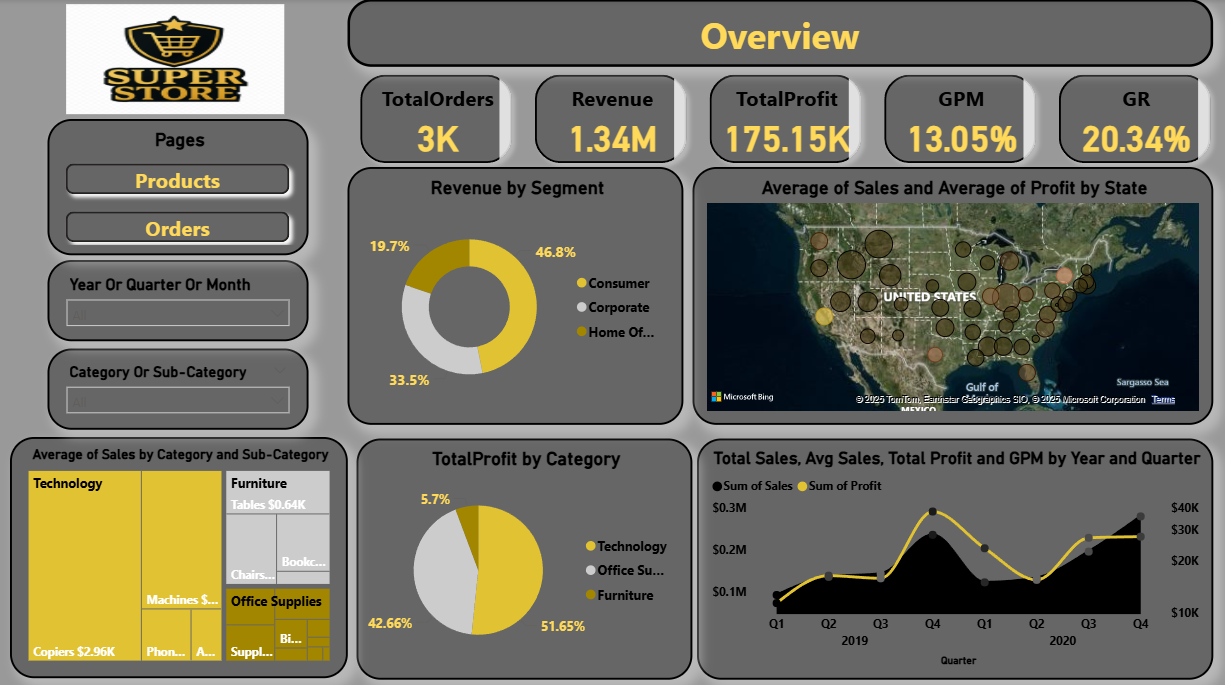

This screenshot's page, from the dashboard's own definition file:
{"tool":"powerbi","page":{"name":"Overview","canvas":[1280,720],"ordinal":0},"visuals":[{"type":"cardVisual","fields":{"Data":["Fact-Sales.TotalOrders","Fact-Sales.Revenue","Orders.TotalProfit","Orders.MGP","Orders.GR"]},"box":[364.2,46.9,915.9,156.3],"z":0},{"type":"lineChart","title":"Total Sales, Avg Sales, Total Profit and GPM by Year and Quarter","fields":{"Category":["Date.Year Hierarchy.Year","Date.Year Hierarchy.Quarter","Date.Year Hierarchy.Month"],"Y":["Sum(Orders.Sales)"],"Y2":["Sum(Orders.Profit)"]},"box":[728.4,458,537.7,251.6],"z":1000},{"type":"map","fields":{"Size":["Avg(Orders.Sales)"],"Category":["Dim-Customers.State"]},"box":[723.7,175.1,542.4,268.8],"z":2000},{"type":"pieChart","fields":{"Category":["Products.Category"],"Y":["Orders.TotalProfit"]},"box":[373.6,458,350.1,251.6],"z":3000},{"type":"treemap","fields":{"Group":["Products.Category"],"Values":["Avg(Orders.Sales)"],"Details":["Products.Sub-Category"]},"box":[12.5,455.9,351.7,251.6],"z":4000},{"type":"donutChart","fields":{"Category":["Customers.Segment"],"Y":["Orders.Revenue"]},"box":[364.2,175.1,350.1,268.8],"z":5000},{"type":"slicer","fields":{"Values":["Products.Category","Products.Sub-Category"]},"box":[51.1,364.7,272,84.4],"z":6000},{"type":"textbox","box":[364.2,0,901.8,70.3],"z":7000},{"type":"slicer","fields":{"Values":["Date.Year Hierarchy.Year","Date.Year Hierarchy.Quarter","Date.Year Hierarchy.Month"]},"box":[51.1,272.5,272,84.4],"z":9000},{"type":"pageNavigator","title":"Pages","box":[51.6,125,272,142.2],"z":10000},{"type":"image","box":[65.6,0,237.6,125],"z":10001}]}

Visuals, with their boxes in screenshot pixels (x1, y1, x2, y2), scaled from the page's 1280x720 canvas onto the 1225x685 screenshot:
cardVisual - Fact-Sales.TotalOrders x Fact-Sales.Revenue: <region>349, 45, 1224, 193</region>
"Total Sales, Avg Sales, Total Profit and GPM by Year and Quarter" lineChart: <region>697, 436, 1212, 675</region>
map - Avg(Orders.Sales) x Dim-Customers.State: <region>693, 167, 1212, 422</region>
pieChart - Products.Category x Orders.TotalProfit: <region>358, 436, 693, 675</region>
treemap - Products.Category x Avg(Orders.Sales): <region>12, 434, 349, 673</region>
donutChart - Customers.Segment x Orders.Revenue: <region>349, 167, 684, 422</region>
slicer - Products.Category x Products.Sub-Category: <region>49, 347, 309, 427</region>
textbox: <region>349, 0, 1212, 67</region>
slicer - Date.Year Hierarchy.Year x Date.Year Hierarchy.Quarter: <region>49, 259, 309, 340</region>
"Pages" pageNavigator: <region>49, 119, 310, 254</region>
image: <region>63, 0, 290, 119</region>
